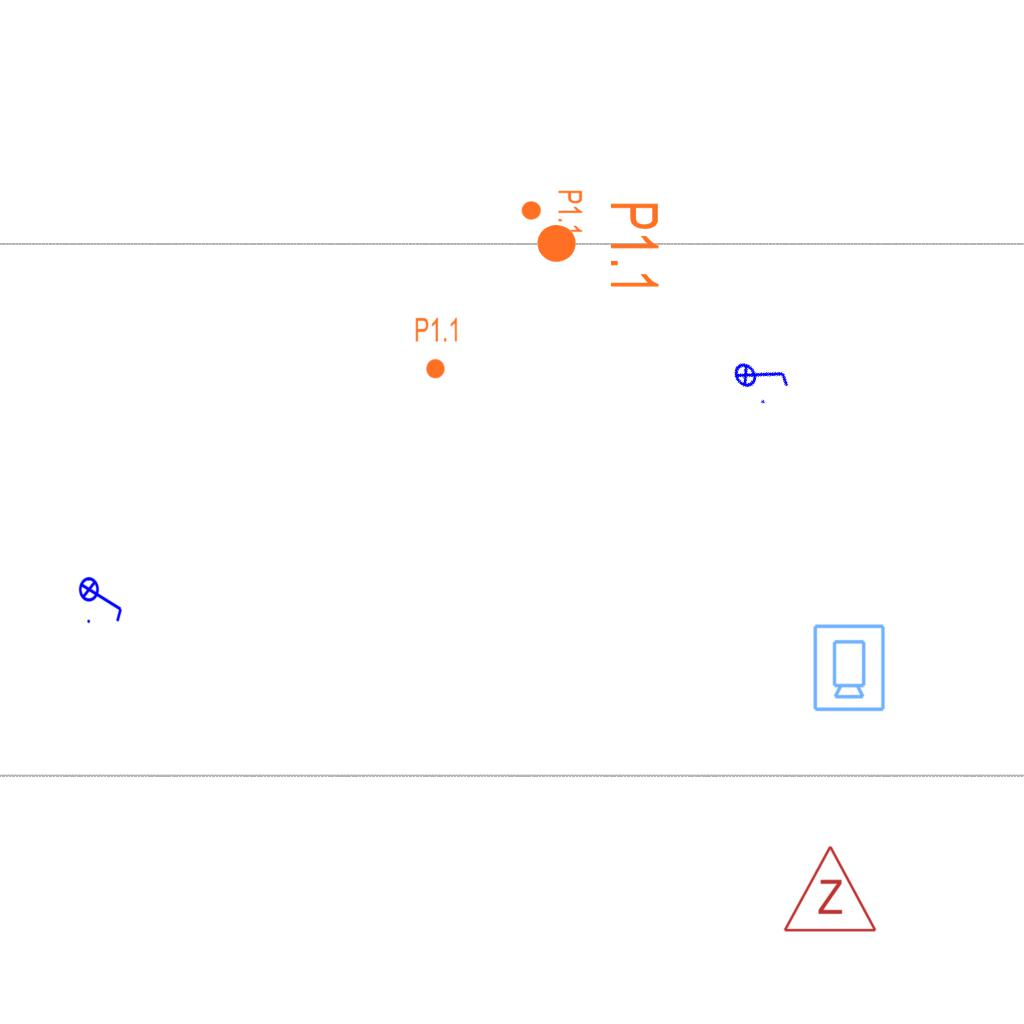Ausschalter_beleuchtet: (725, 338, 797, 412), (78, 570, 126, 626)
Downlight_LED_Einbauleuchten_Flur: (534, 200, 662, 293), (414, 316, 460, 380), (520, 189, 584, 235)
KFO_Kamera_mit_Festobjektiv: (810, 622, 887, 713)
Zimmersignalleuchte: (780, 839, 878, 939)
